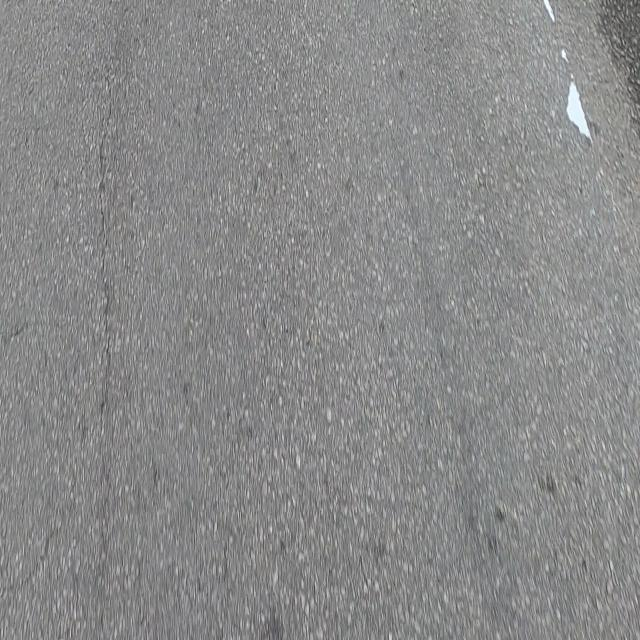Retak-Memanjang: (95, 69, 117, 423)
